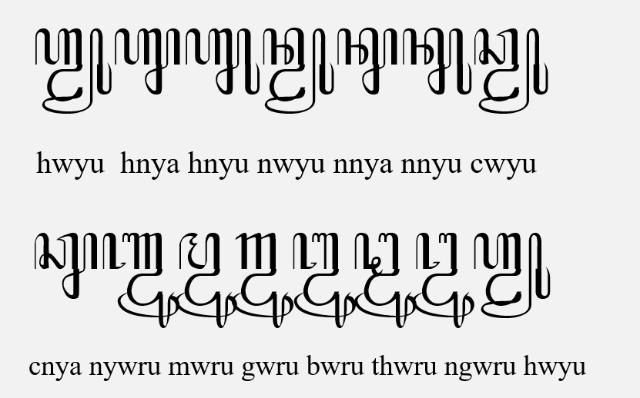bwru: (292, 233, 356, 329)
cny: (34, 232, 98, 300)
cwyu: (474, 27, 548, 114)
gwru: (232, 232, 294, 328)
hny: (115, 29, 181, 96)
hnyu: (186, 27, 260, 95)
hwyu: (34, 27, 112, 115), (474, 232, 550, 320)
mwru: (176, 233, 238, 330)
ngwru: (414, 233, 474, 330)
nny: (336, 27, 398, 95)
nnyu: (402, 28, 472, 97)
nwyu: (262, 27, 336, 114)
nywru: (102, 233, 180, 330)
thwru: (354, 233, 416, 330)
